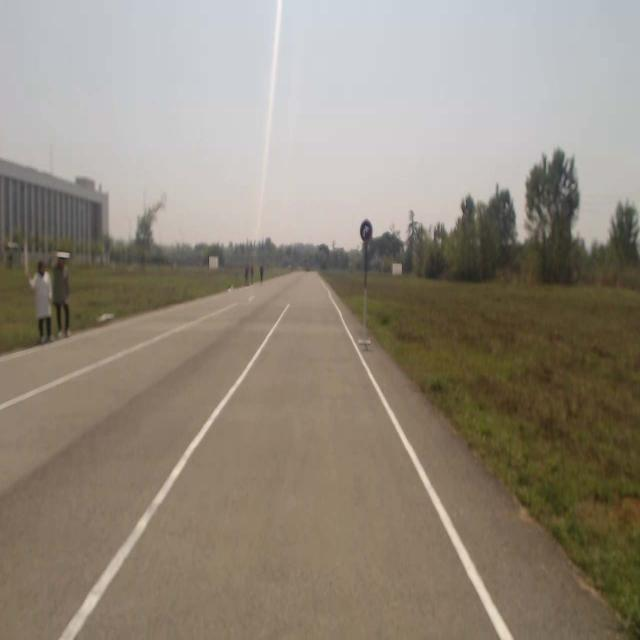sag: (360, 220, 372, 240)
